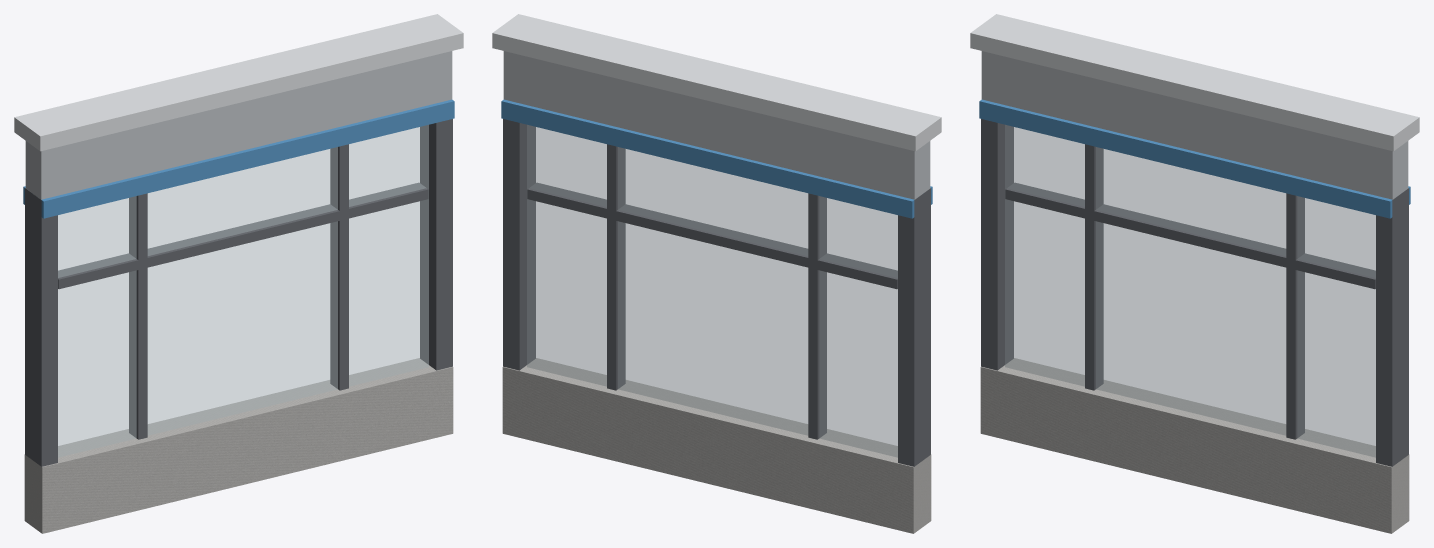
Rendered from ferry-terminal-and-harbour-crossing-ferry-terminal-and-ecb38e85__35649.glb.
3 renders of one model, left to right at view 1: azimuth 30°, elevation 25°; view 2: azimuth 150°, elevation 25°; view 3: azimuth 330°, elevation 25°, orthographic.
Parts seen in each view (by area): view 1: ferry-terminal-and-harbour-crossing-terminal-facade-bay; view 2: ferry-terminal-and-harbour-crossing-terminal-facade-bay; view 3: ferry-terminal-and-harbour-crossing-terminal-facade-bay.
Boxes of the visible parts, x1,y1,x2,y2 form: ferry-terminal-and-harbour-crossing-terminal-facade-bay: (14,14,463,533); ferry-terminal-and-harbour-crossing-terminal-facade-bay: (492,14,941,533); ferry-terminal-and-harbour-crossing-terminal-facade-bay: (970,14,1419,533).
Size of the model in its own units: 4.12 by 3.74 by 0.4401.
Materials: 6 (1 with a texture image).
